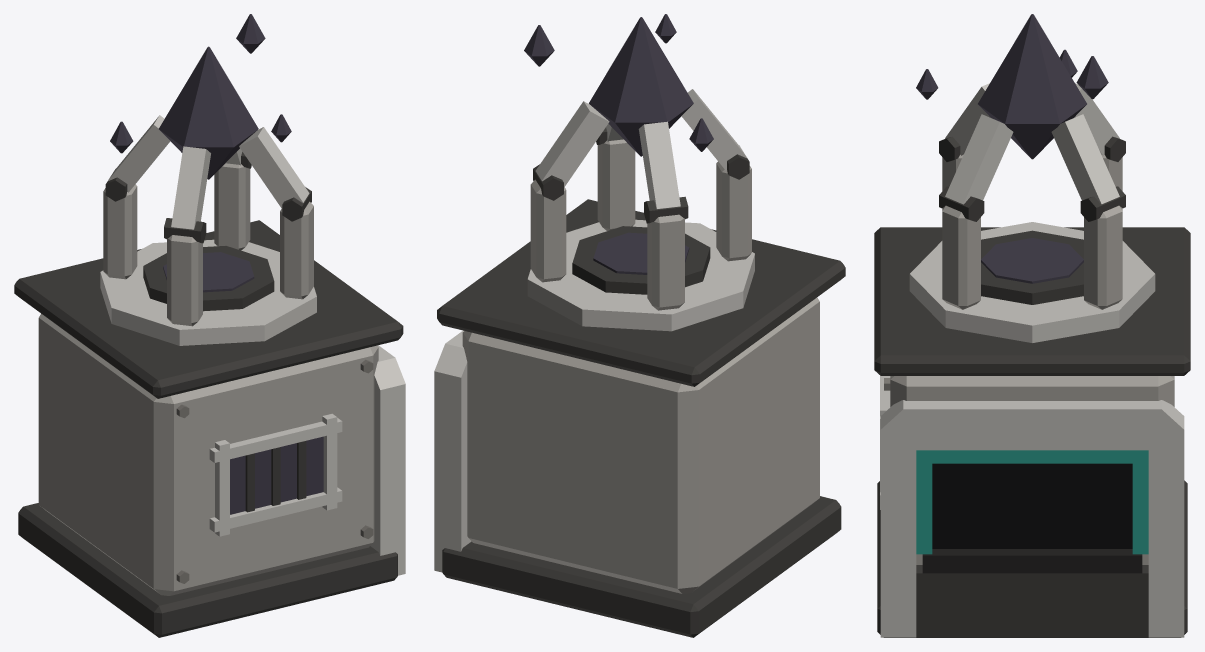
The model's file is extractor_coal.fbx.
The picture shows the model from 3 angles, left to right: view 1: azimuth 30°, elevation 25°; view 2: azimuth 150°, elevation 25°; view 3: azimuth 270°, elevation 25°; orthographic projection. The views are drawn at different scales.
Visible parts, largest first — view 1: extractor_coal; view 2: extractor_coal; view 3: extractor_coal.
Part boxes in pixels (x1,y1,x2,y2): extractor_coal: (14,14,405,637); extractor_coal: (434,14,845,637); extractor_coal: (874,14,1190,637).
Bounding box in the file's own units: 2.97 × 5.75 × 2.94.
